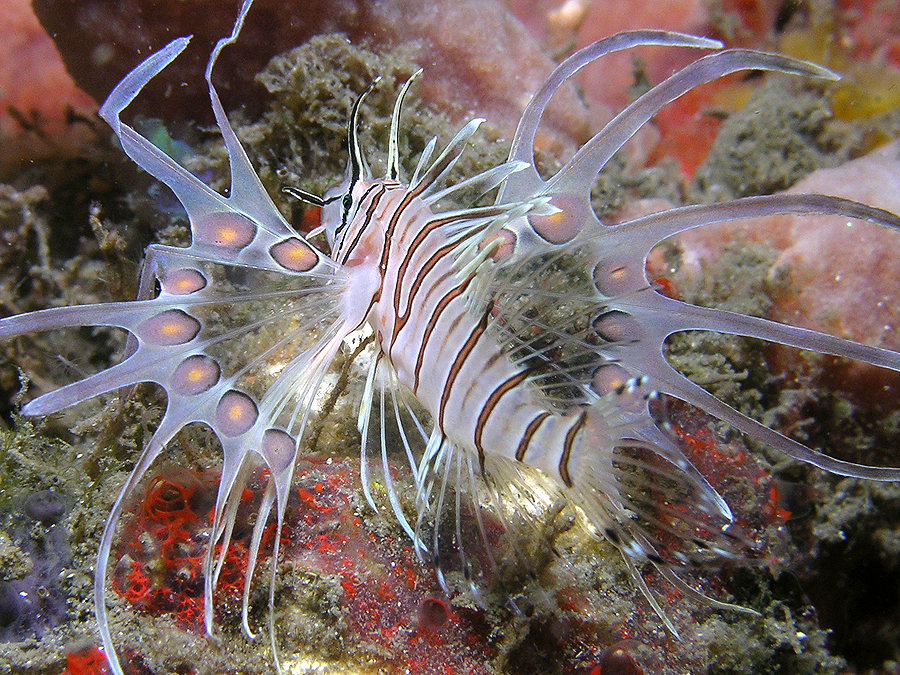Pterois_volitans: (39, 1, 876, 651)
